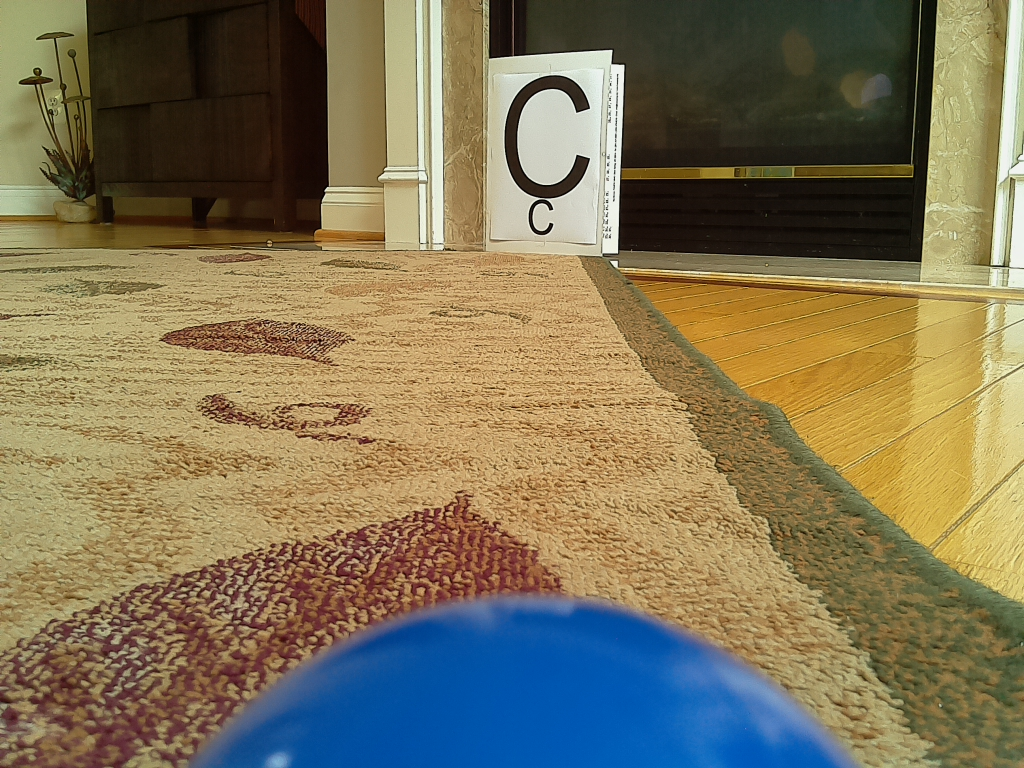letter: (505, 77, 590, 200)
